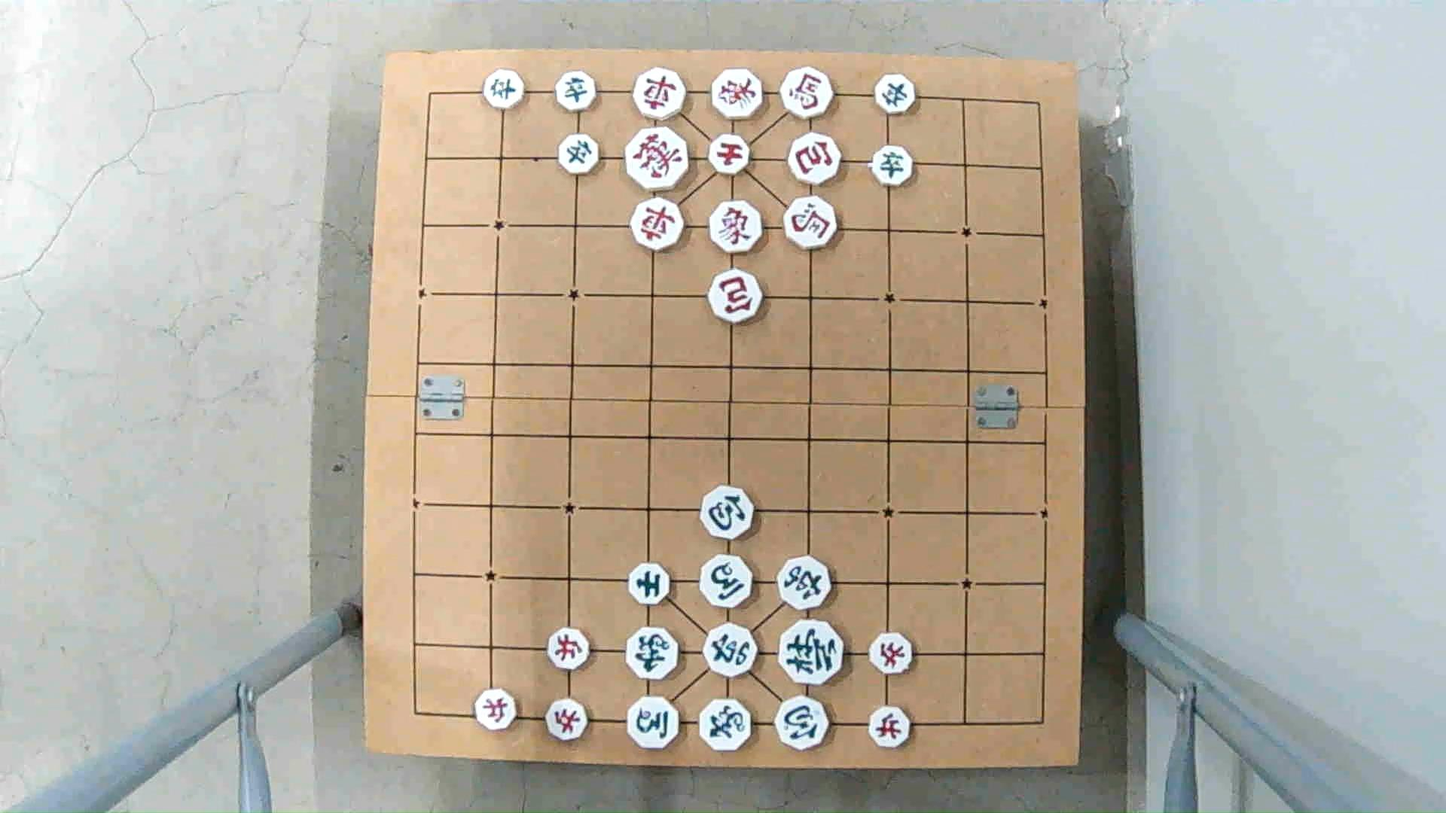cha_green: (702, 626, 758, 676), (776, 559, 831, 609)
cha_red: (632, 68, 688, 118), (630, 202, 685, 250)
jol_green: (872, 145, 917, 183), (874, 76, 917, 114), (557, 137, 599, 175), (555, 74, 598, 111), (484, 73, 525, 109)
jol_red: (542, 697, 588, 738), (868, 635, 915, 674), (548, 629, 593, 668), (475, 691, 520, 730), (868, 708, 913, 746)
ma_green: (700, 557, 756, 608), (627, 698, 682, 749)
ma_red: (781, 199, 838, 249), (781, 71, 836, 117)
po_green: (776, 699, 832, 748), (699, 491, 755, 540)
po_red: (706, 273, 764, 322), (791, 135, 844, 182)
sa_green: (627, 562, 673, 602)
sa_red: (706, 136, 752, 172)
sang_green: (625, 625, 678, 681), (698, 699, 753, 752)
sang_red: (708, 200, 767, 257), (709, 71, 764, 119)
wang_green: (776, 620, 844, 685)
wang_red: (626, 128, 690, 190)
